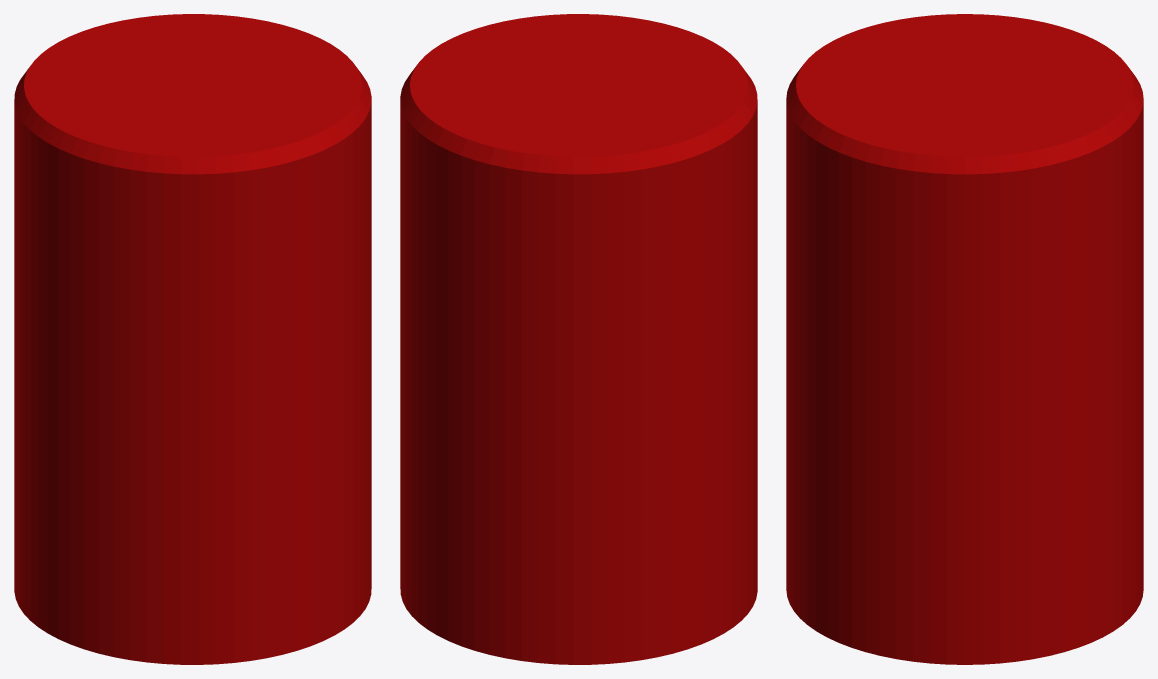
File: tonnetz_button_top.obj
3 views of the same model, side by side, from view 1: azimuth 30°, elevation 25°; view 2: azimuth 150°, elevation 25°; view 3: azimuth 270°, elevation 25° (orthographic).
Parts seen in each view (by area): view 1: Cylinder; view 2: Cylinder; view 3: Cylinder.
Part boxes in pixels (left/top/right/bottom): Cylinder: left=14, top=14, right=371, bottom=664; Cylinder: left=400, top=14, right=757, bottom=664; Cylinder: left=786, top=14, right=1143, bottom=664.
Bounding box in the file's own units: 0.0331 × 0.0516 × 0.0331.
